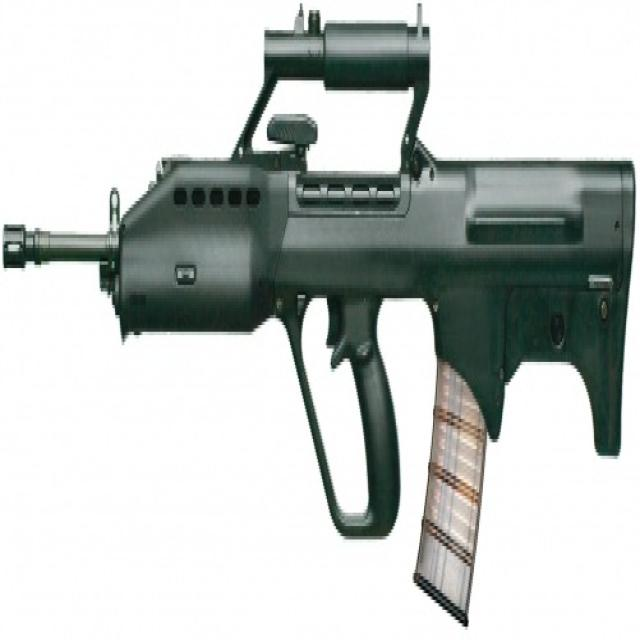rifle: (1, 1, 638, 640)
